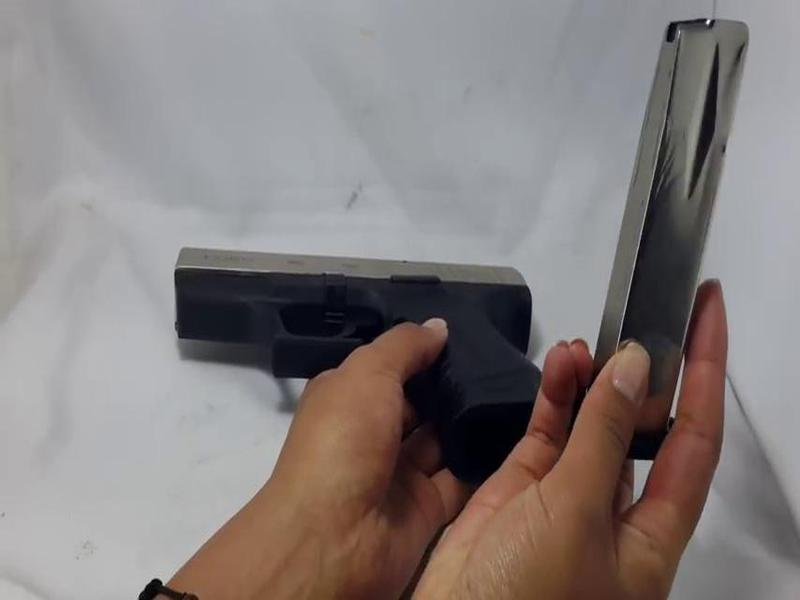Pistola: (169, 225, 561, 459)
